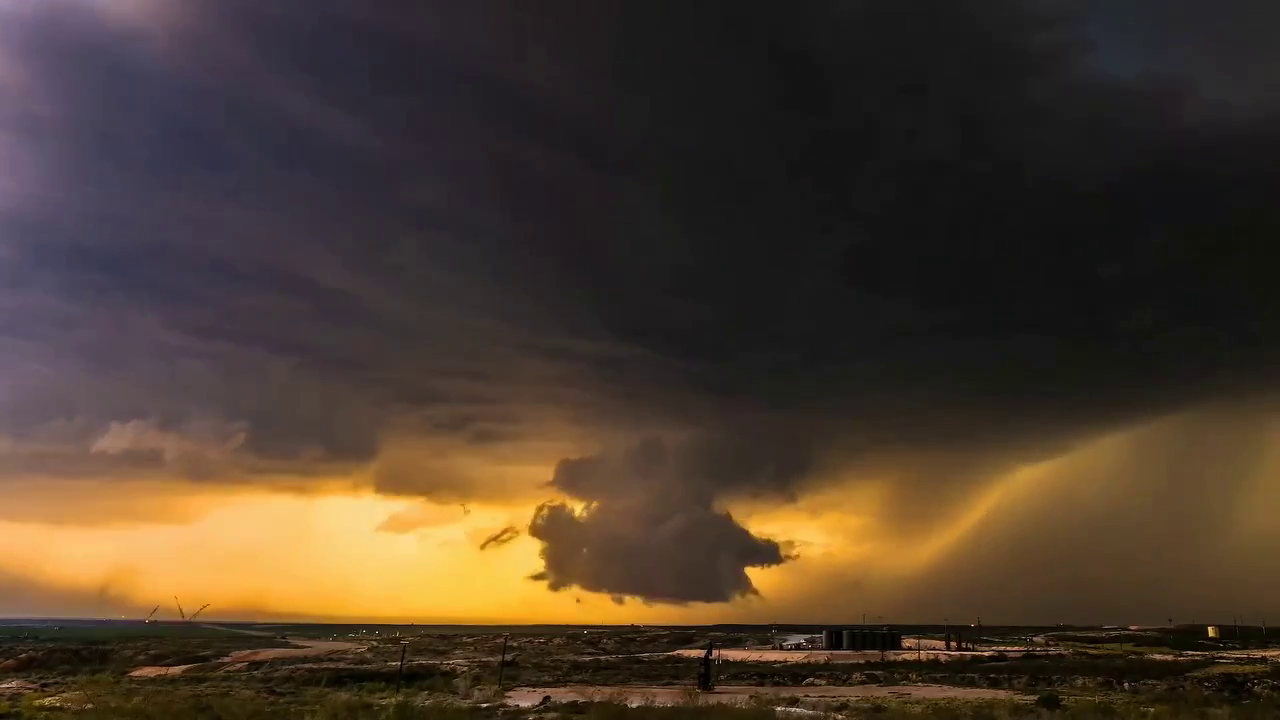RFD: (659, 404, 1280, 625)
mesocyclone: (100, 2, 1279, 477)
striations: (375, 331, 688, 443)
wall cloud: (481, 433, 801, 605)
